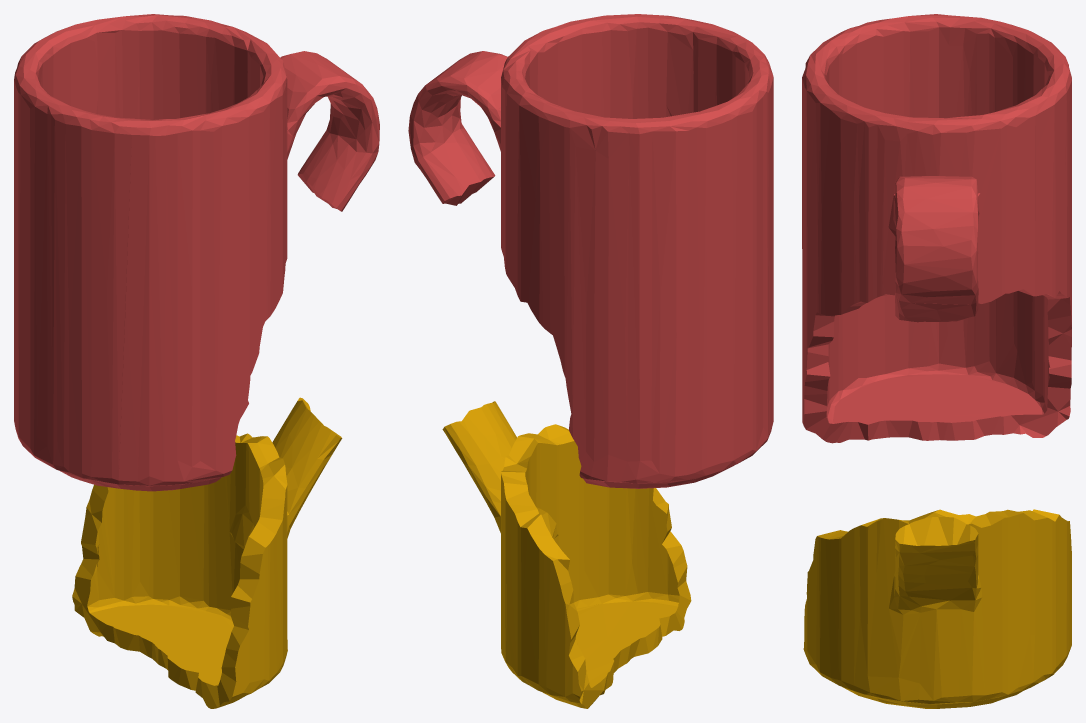
The model's file is fractured_38_2pcs_transformed.glb.
The picture shows the model from 3 angles, left to right: view 1: azimuth 30°, elevation 25°; view 2: azimuth 150°, elevation 25°; view 3: azimuth 270°, elevation 25°; orthographic projection.
Parts seen in each view (by area): view 1: piece_1.obj, piece_0.obj; view 2: piece_1.obj, piece_0.obj; view 3: piece_1.obj, piece_0.obj.
Boxes of the visible parts, x1,y1,x2,y2 form: piece_1.obj: (14, 14, 379, 491); piece_0.obj: (72, 397, 342, 708); piece_1.obj: (408, 14, 773, 488); piece_0.obj: (442, 401, 691, 708); piece_1.obj: (802, 14, 1071, 443); piece_0.obj: (803, 509, 1071, 708).
Bounding box in the file's own units: 0.9165 × 1.6 × 0.6557.
